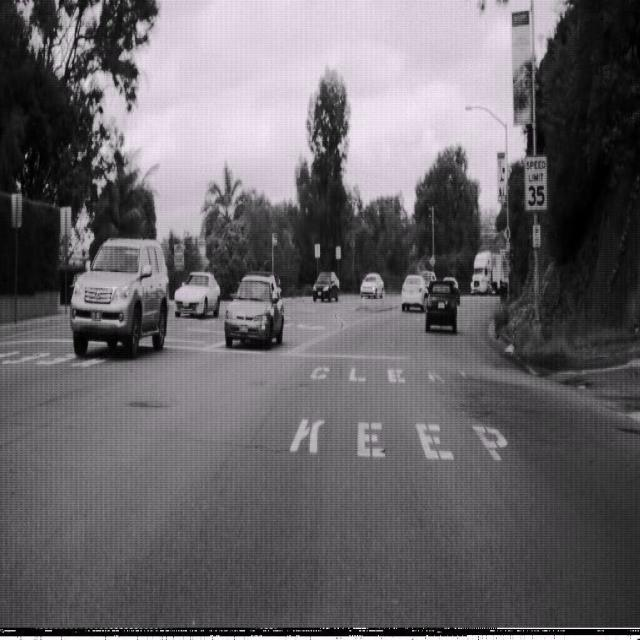speedLimit35: (524, 153, 548, 212)
